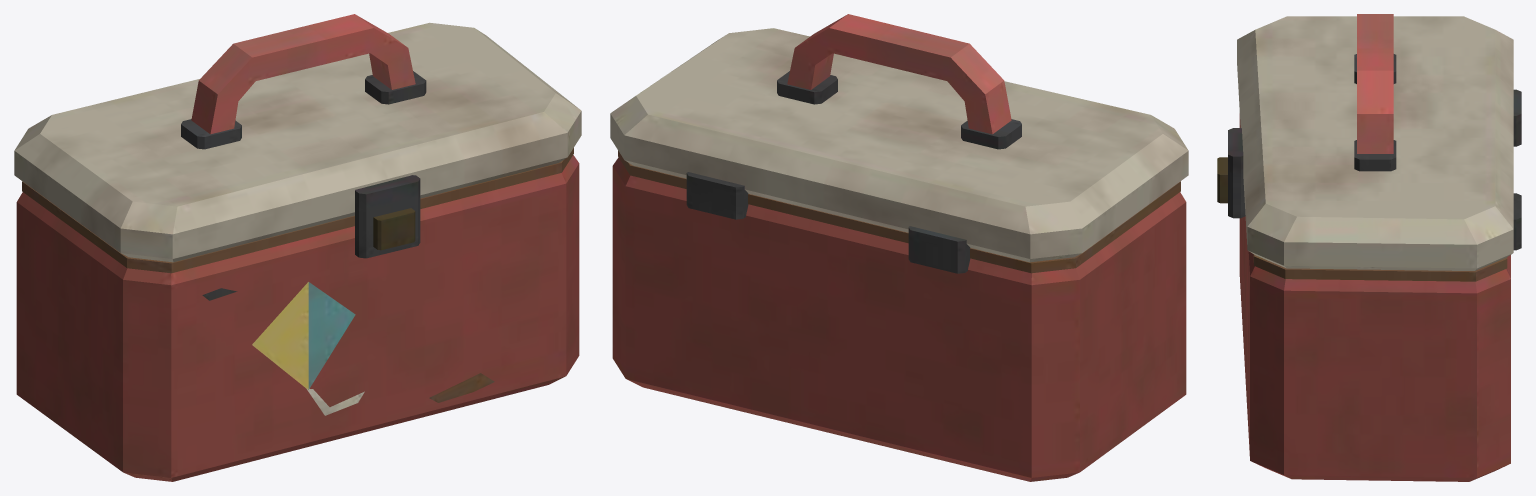
Rendered from SE10_kids_lunch_boxes_v1.glb.
3 renders of one model, left to right at view 1: azimuth 30°, elevation 25°; view 2: azimuth 150°, elevation 25°; view 3: azimuth 270°, elevation 25°, orthographic. The views are drawn at different scales.
Parts seen in each view (by area): view 1: Dented kite lunch box; view 2: Dented kite lunch box; view 3: Dented kite lunch box.
Part boxes in pixels (x1=…): Dented kite lunch box: x1=14, y1=14, x2=581, y2=481; Dented kite lunch box: x1=610, y1=14, x2=1188, y2=481; Dented kite lunch box: x1=1217, y1=14, x2=1521, y2=481.
Bounding box in the file's own units: 0.2 × 0.1429 × 0.1165.
9 materials, 9 textured.
